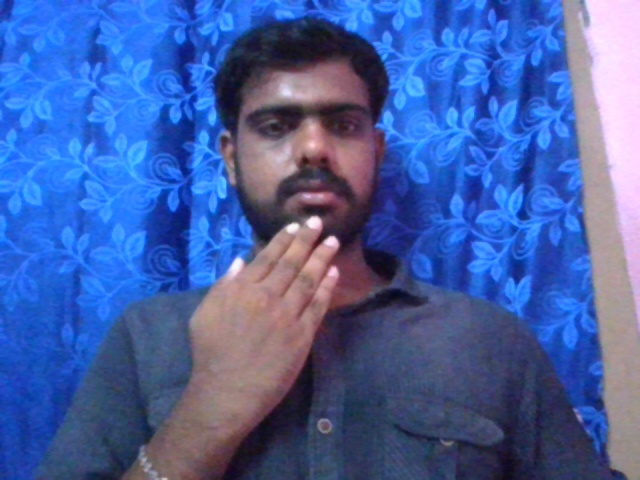Thanks: (201, 213, 342, 380)
